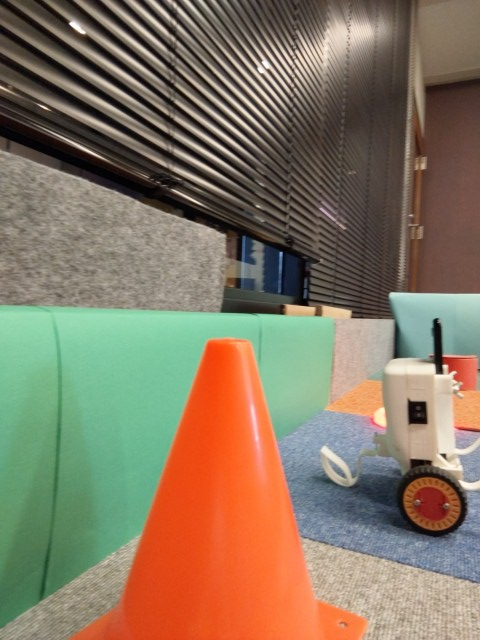br: (318, 317, 480, 535)
